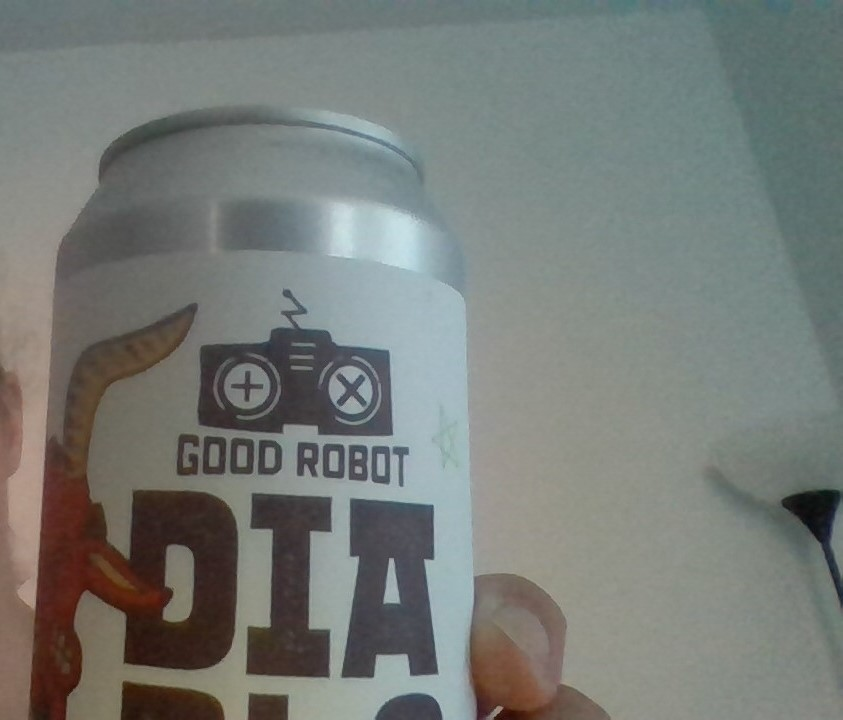Good Robot: (187, 288, 399, 440)
